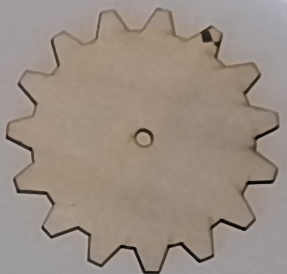Points: (198, 28, 221, 49)
